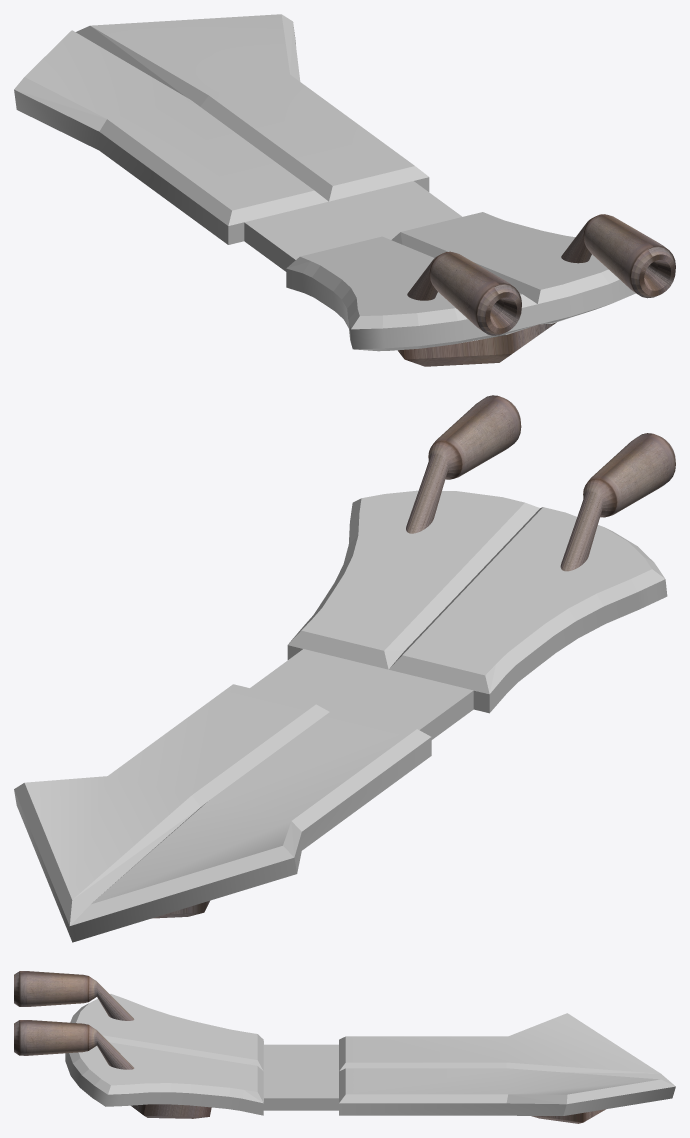
Rendered from Slider V1.obj.
3 views of the same model, one above another, from view 1: azimuth 30°, elevation 25°; view 2: azimuth 150°, elevation 25°; view 3: azimuth 270°, elevation 25° (orthographic). The views are drawn at different scales.
Parts seen in each view (by area): view 1: Slider_V1; view 2: Slider_V1; view 3: Slider_V1.
Boxes of the visible parts, x1=… form: Slider_V1: x1=14, y1=14, x2=675, y2=366; Slider_V1: x1=14, y1=395, x2=675, y2=942; Slider_V1: x1=14, y1=971, x2=675, y2=1123.
Size of the model in its own units: 68.78 by 36.73 by 195.
